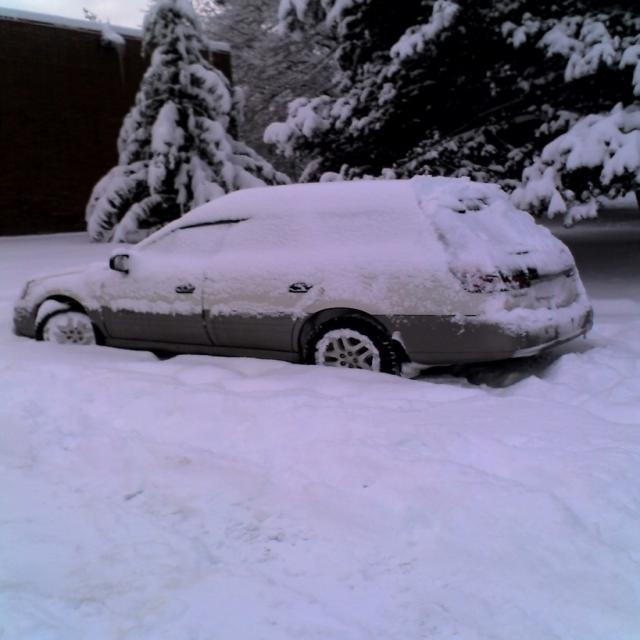car: (12, 177, 591, 374)
